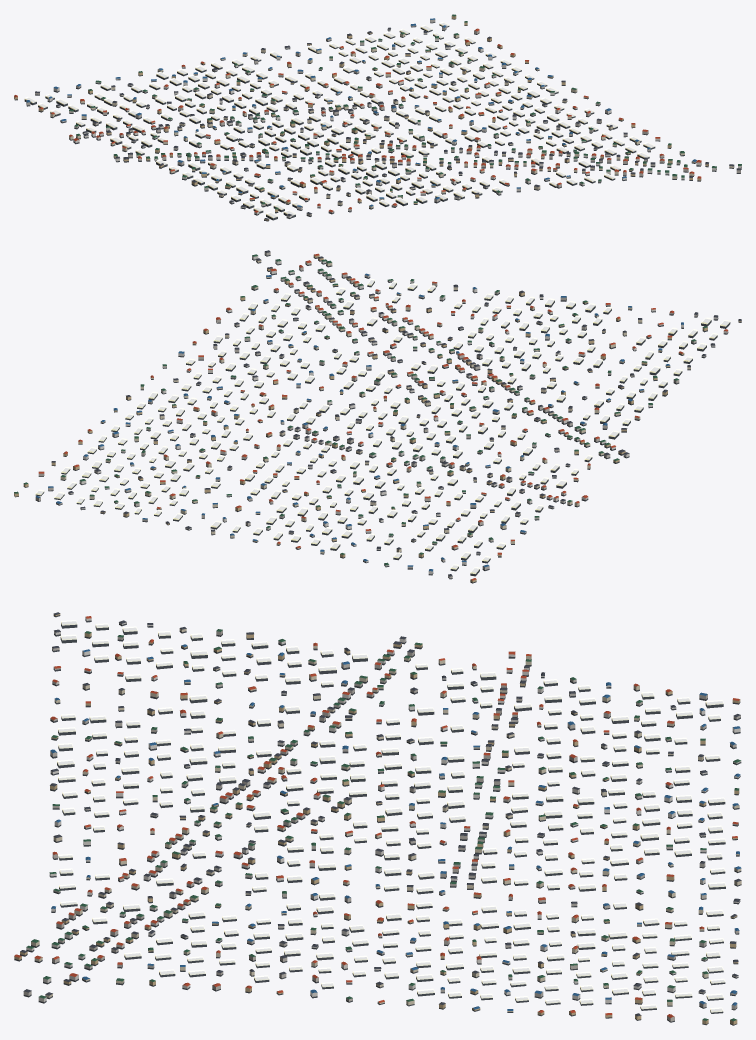
Rendered from buildings_T_E01_N07.glb.
3 renders of one model, top to bottom at view 1: azimuth 30°, elevation 25°; view 2: azimuth 150°, elevation 25°; view 3: azimuth 270°, elevation 25°, orthographic. The views are drawn at different scales.
Parts seen in each view (by area): view 1: T_E01_N07_slope_seating_foundations, T_E01_N07_roofs_agri_greenhouse_arch, T_E01_N07_walls_wall_dalat_cream_stucco, T_E01_N07_walls_wall_pastel_sand_gray, T_E01_N07_walls_wall_modern_warm_white, T_E01_N07_roofs_roof_slate_French_villa_hip, T_E01_N07_roofs_roof_terracotta_gable, T_E01_N07_roofs_roof_pine_green_hip, T_E01_N07_walls_wall_french_ochre_villa, T_E01_N07_roofs_roof_highland_blue_gable; view 2: T_E01_N07_slope_seating_foundations, T_E01_N07_roofs_agri_greenhouse_arch, T_E01_N07_walls_wall_dalat_cream_stucco, T_E01_N07_walls_wall_pastel_sand_gray, T_E01_N07_walls_wall_modern_warm_white, T_E01_N07_walls_wall_french_ochre_villa, T_E01_N07_roofs_roof_slate_French_villa_hip, T_E01_N07_roofs_roof_terracotta_gable, T_E01_N07_roofs_roof_pine_green_hip, T_E01_N07_roofs_roof_highland_blue_gable; view 3: T_E01_N07_slope_seating_foundations, T_E01_N07_roofs_agri_greenhouse_arch, T_E01_N07_walls_wall_dalat_cream_stucco, T_E01_N07_walls_wall_pastel_sand_gray, T_E01_N07_walls_wall_modern_warm_white, T_E01_N07_walls_wall_french_ochre_villa, T_E01_N07_roofs_roof_terracotta_gable, T_E01_N07_roofs_roof_pine_green_hip, T_E01_N07_roofs_roof_slate_French_villa_hip, T_E01_N07_roofs_roof_highland_blue_gable.
Part boxes in pixels (x1,y1,x2,y2): T_E01_N07_slope_seating_foundations: [14, 18, 741, 221]; T_E01_N07_roofs_agri_greenhouse_arch: [24, 21, 655, 218]; T_E01_N07_walls_wall_dalat_cream_stucco: [50, 33, 734, 208]; T_E01_N07_walls_wall_pastel_sand_gray: [26, 19, 740, 215]; T_E01_N07_walls_wall_modern_warm_white: [47, 29, 741, 217]; T_E01_N07_roofs_roof_slate_French_villa_hip: [35, 27, 740, 219]; T_E01_N07_roofs_roof_terracotta_gable: [14, 28, 701, 212]; T_E01_N07_roofs_roof_pine_green_hip: [69, 14, 741, 209]; T_E01_N07_walls_wall_french_ochre_villa: [14, 15, 708, 220]; T_E01_N07_roofs_roof_highland_blue_gable: [26, 18, 696, 207]; T_E01_N07_slope_seating_foundations: [14, 254, 741, 583]; T_E01_N07_roofs_agri_greenhouse_arch: [35, 279, 730, 573]; T_E01_N07_walls_wall_dalat_cream_stucco: [60, 259, 690, 553]; T_E01_N07_walls_wall_pastel_sand_gray: [35, 252, 698, 578]; T_E01_N07_walls_wall_modern_warm_white: [79, 256, 728, 574]; T_E01_N07_walls_wall_french_ochre_villa: [14, 255, 741, 582]; T_E01_N07_roofs_roof_slate_French_villa_hip: [51, 250, 741, 576]; T_E01_N07_roofs_roof_terracotta_gable: [38, 253, 727, 580]; T_E01_N07_roofs_roof_pine_green_hip: [14, 254, 707, 565]; T_E01_N07_roofs_roof_highland_blue_gable: [35, 273, 683, 571]; T_E01_N07_slope_seating_foundations: [14, 615, 741, 1025]; T_E01_N07_roofs_agri_greenhouse_arch: [57, 620, 725, 1012]; T_E01_N07_walls_wall_dalat_cream_stucco: [31, 628, 741, 1011]; T_E01_N07_walls_wall_pastel_sand_gray: [23, 630, 740, 1021]; T_E01_N07_walls_wall_modern_warm_white: [26, 616, 741, 1003]; T_E01_N07_walls_wall_french_ochre_villa: [14, 614, 740, 1024]; T_E01_N07_roofs_roof_terracotta_gable: [14, 616, 739, 1017]; T_E01_N07_roofs_roof_pine_green_hip: [26, 629, 740, 1021]; T_E01_N07_roofs_roof_slate_French_villa_hip: [20, 612, 741, 1016]; T_E01_N07_roofs_roof_highland_blue_gable: [50, 644, 741, 1010].
Bounding box in the file's own units: 1943 × 344 × 1843.
